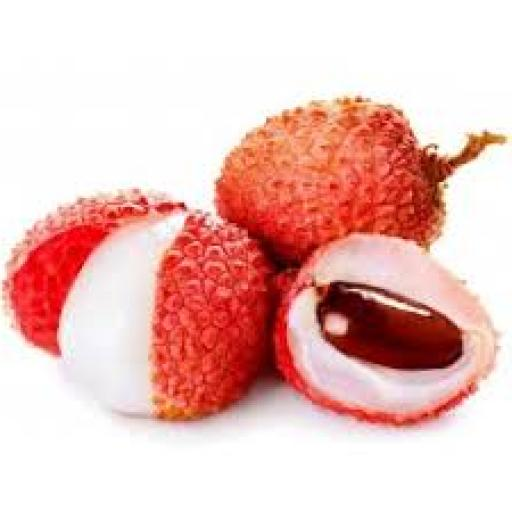lychee: (4, 192, 272, 418), (216, 98, 504, 263), (59, 212, 269, 418), (275, 235, 495, 425), (2, 189, 183, 354)
